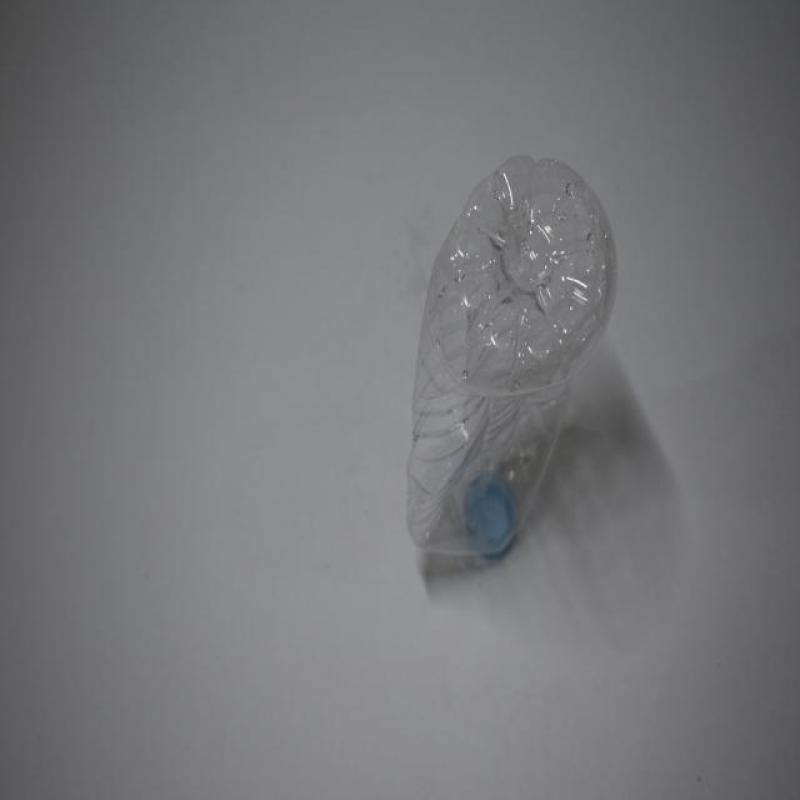botella: (403, 152, 618, 557)
